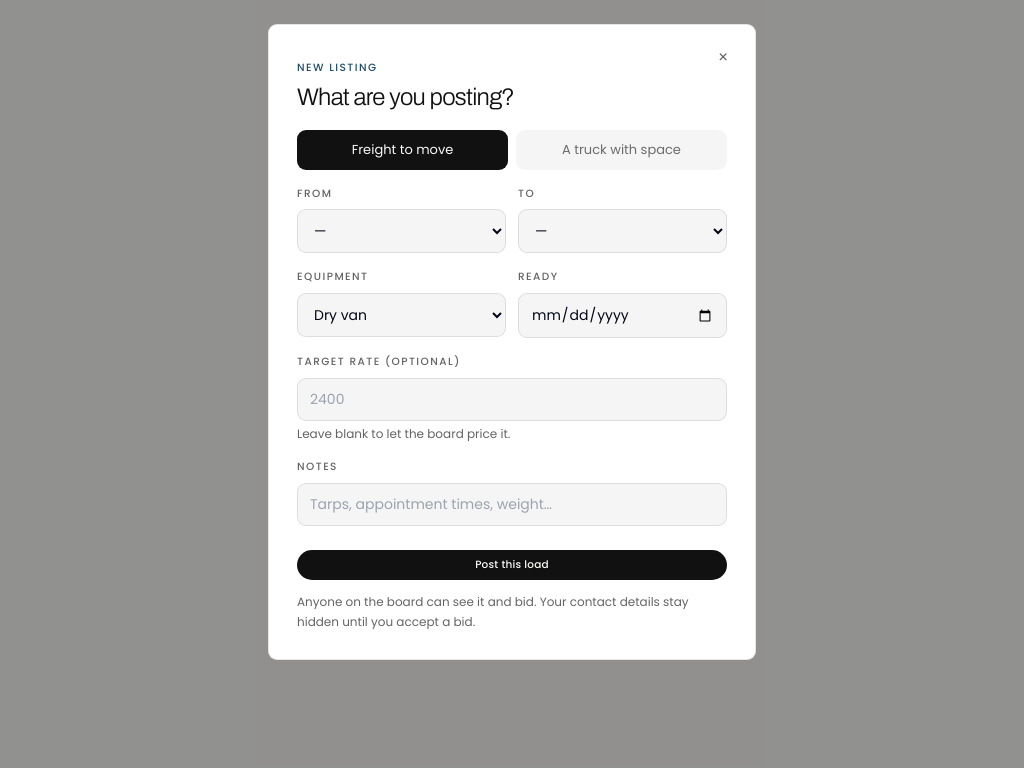
PostListing › 1.1 live + signed in -> createListing called once with owner_id === user.id
The image size is (1024, 768).
Select "Memphis" in the dropdown labelled "From": (402, 231) [297, 209, 506, 253]
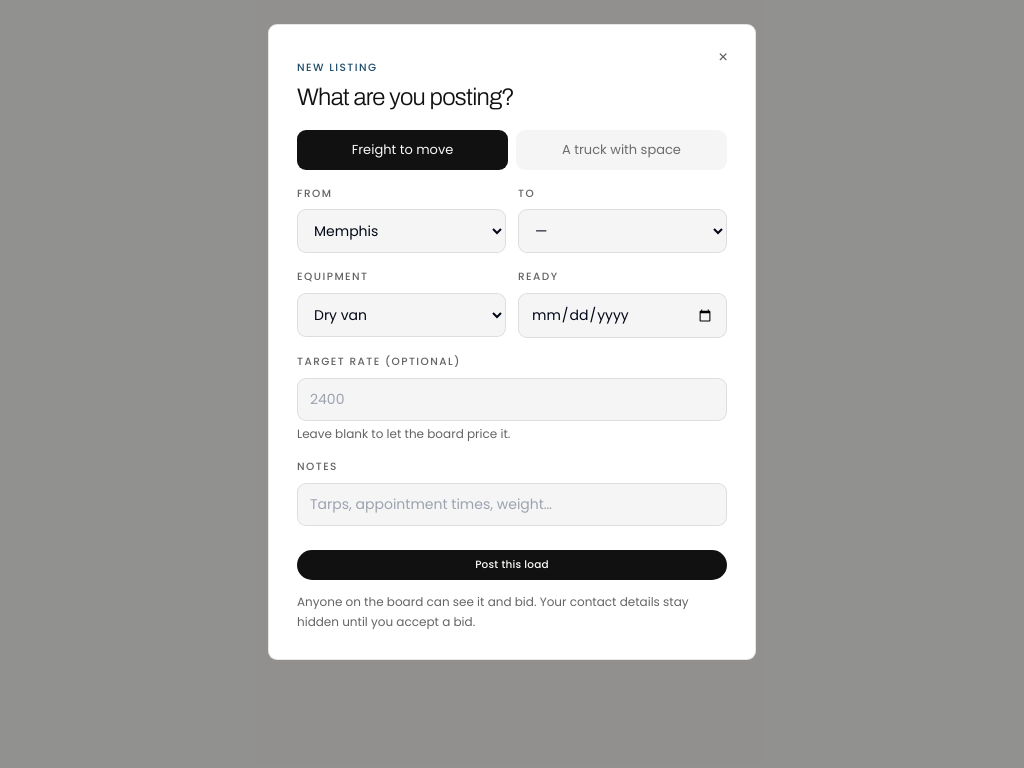
Select "Chicago" in the dropdown labelled "To": (622, 231) [518, 209, 727, 253]
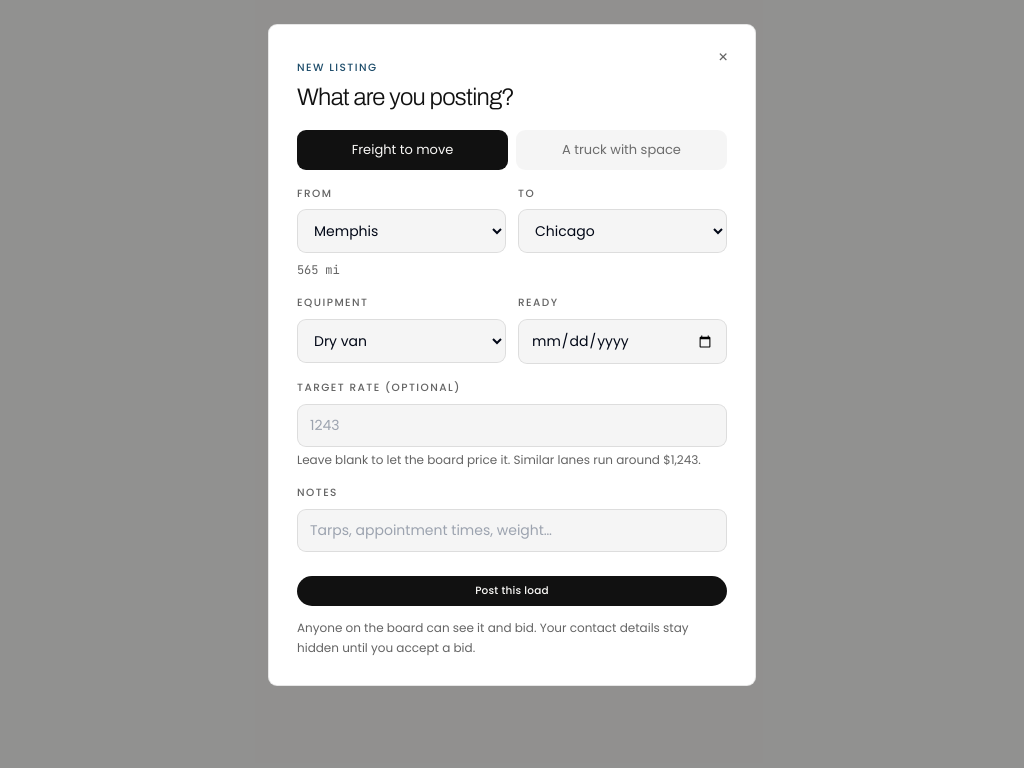
Click the button "Post this load": (512, 591) [297, 576, 727, 606]
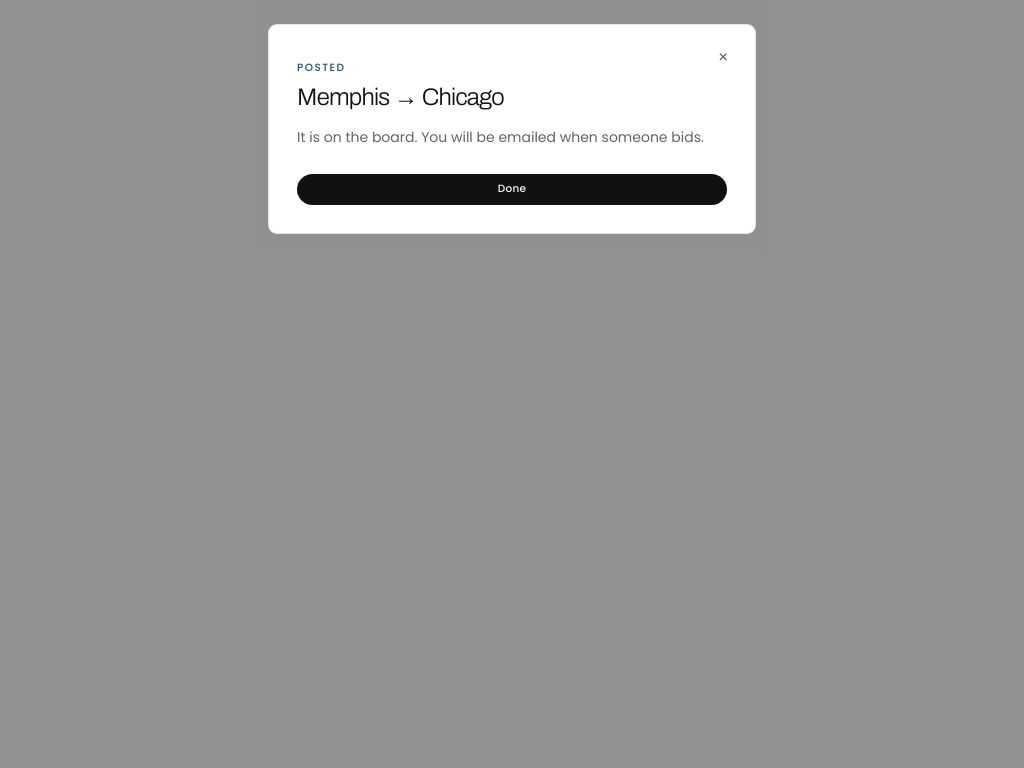
Expected: the text "It is on the board. You will be emailed when someone bids." is shown, [297, 126, 727, 150]
